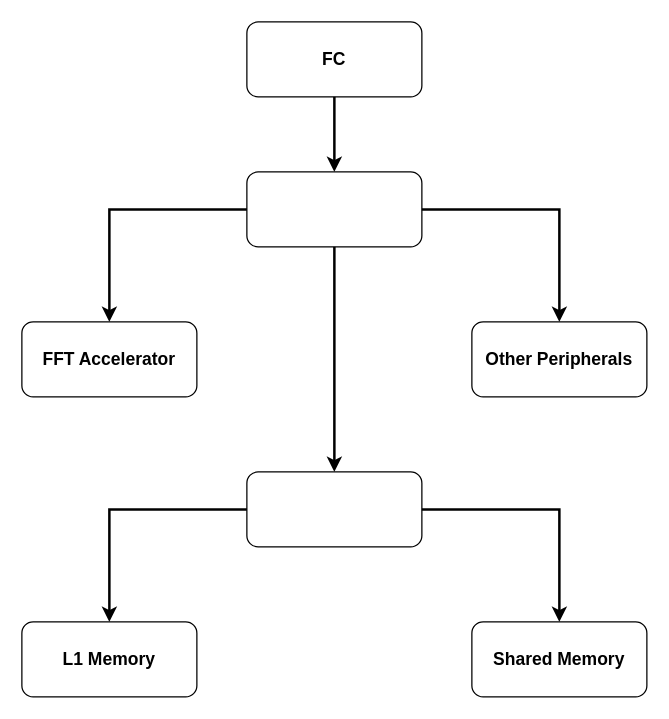
This 669x719 diagram has some shape labels left out. Here are the shapes that lost their labels. From the top down, the box of each, then its label:
(246, 171, 422, 247): AXI Crossbar
(246, 471, 422, 547): TCDM Interconnect
